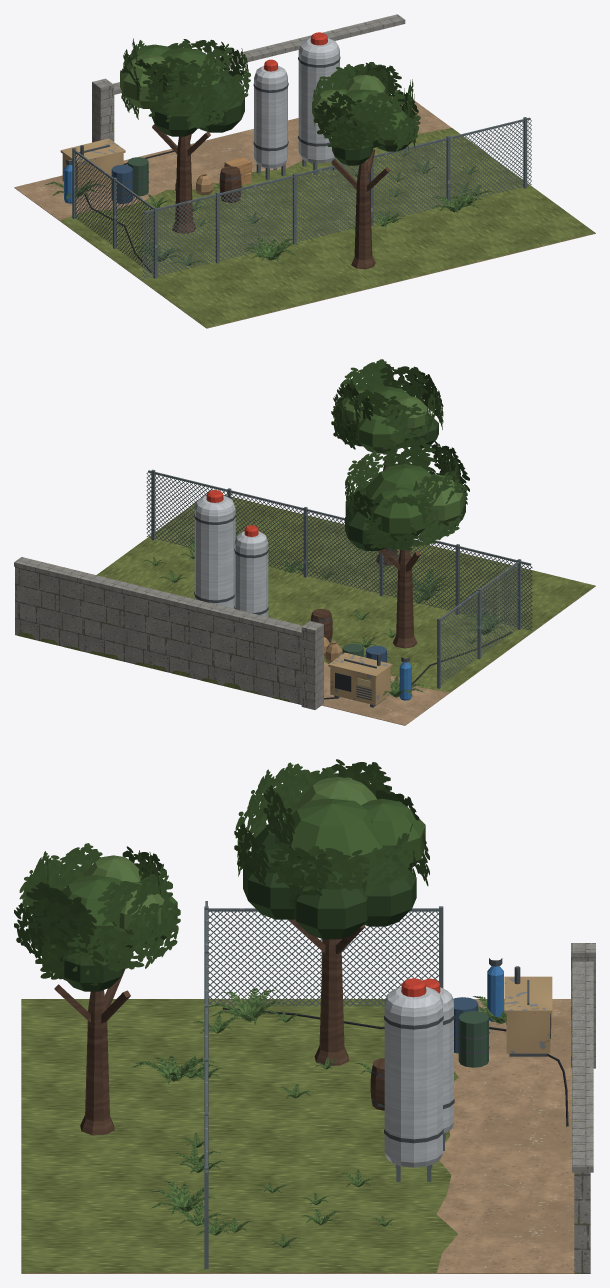
File: back_e.glb
The picture shows the model from 3 angles, top to bottom: view 1: azimuth 30°, elevation 25°; view 2: azimuth 150°, elevation 25°; view 3: azimuth 270°, elevation 25°; orthographic projection. The views are drawn at different scales.
Visible parts, largest first — view 1: back_e_ground, back_e_vegetation, back_e_fence, back_e_props, back_e_wall; view 2: back_e_ground, back_e_wall, back_e_vegetation, back_e_fence, back_e_props; view 3: back_e_ground, back_e_vegetation, back_e_props, back_e_fence, back_e_wall.
Boxes of the visible parts, left/top/right/bottom form: back_e_ground: left=14, top=92, right=595, bottom=328; back_e_vegetation: left=44, top=38, right=493, bottom=269; back_e_fence: left=72, top=117, right=531, bottom=279; back_e_props: left=60, top=32, right=340, bottom=272; back_e_wall: left=92, top=14, right=405, bottom=142; back_e_ground: left=96, top=495, right=595, bottom=725; back_e_wall: left=14, top=557, right=323, bottom=709; back_e_vegetation: left=144, top=359, right=509, bottom=697; back_e_fence: left=146, top=469, right=532, bottom=688; back_e_props: left=194, top=490, right=512, bottom=707; back_e_ground: left=21, top=999, right=576, bottom=1273; back_e_vegetation: left=14, top=759, right=506, bottom=1247; back_e_props: left=222, top=958, right=568, bottom=1181; back_e_fence: left=204, top=901, right=443, bottom=1269; back_e_wall: left=571, top=943, right=595, bottom=1273.
Bounding box in the file's own units: 11.9 × 5.6 × 10.67.
17 materials, 16 textured.
